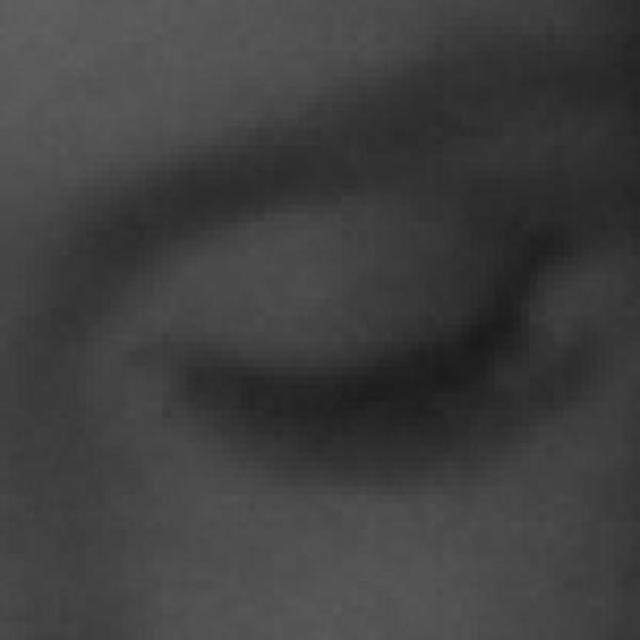drowsy: (194, 209, 584, 520)
